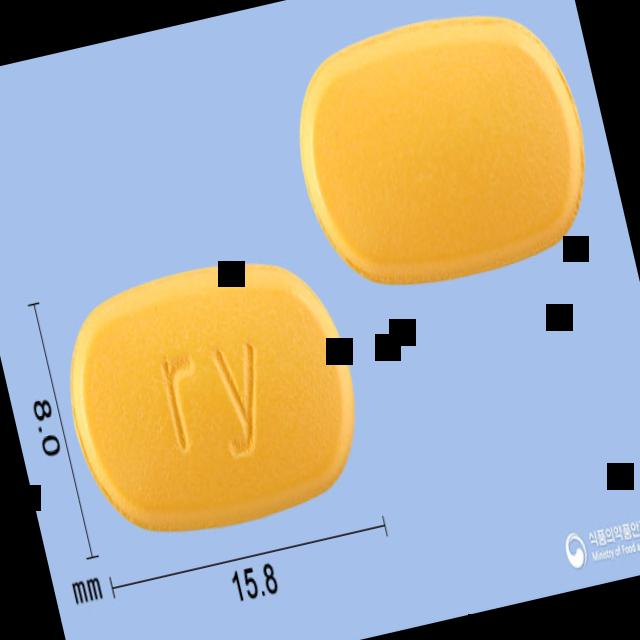Cefaxamin Cap: (47, 238, 377, 554), (277, 0, 609, 307)
